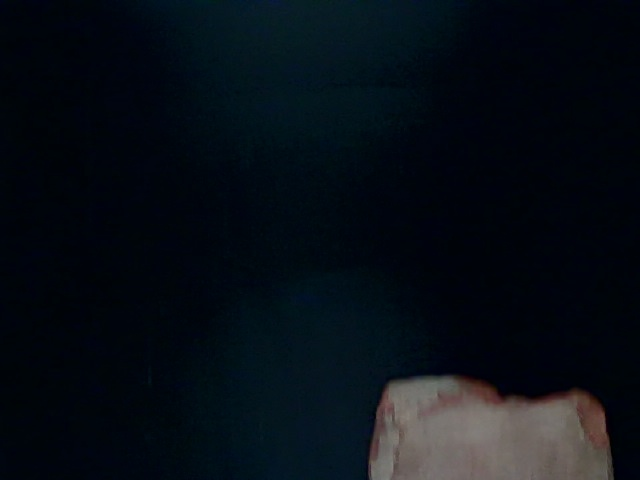KHSLJ: (314, 364, 547, 480)
